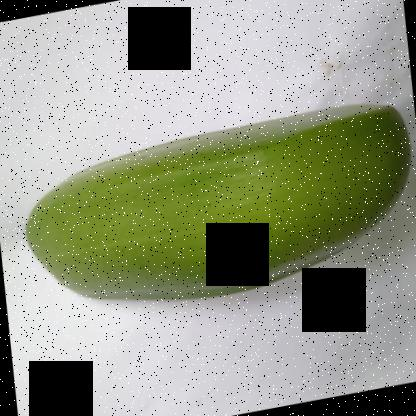freshunripe: (21, 93, 415, 315)
